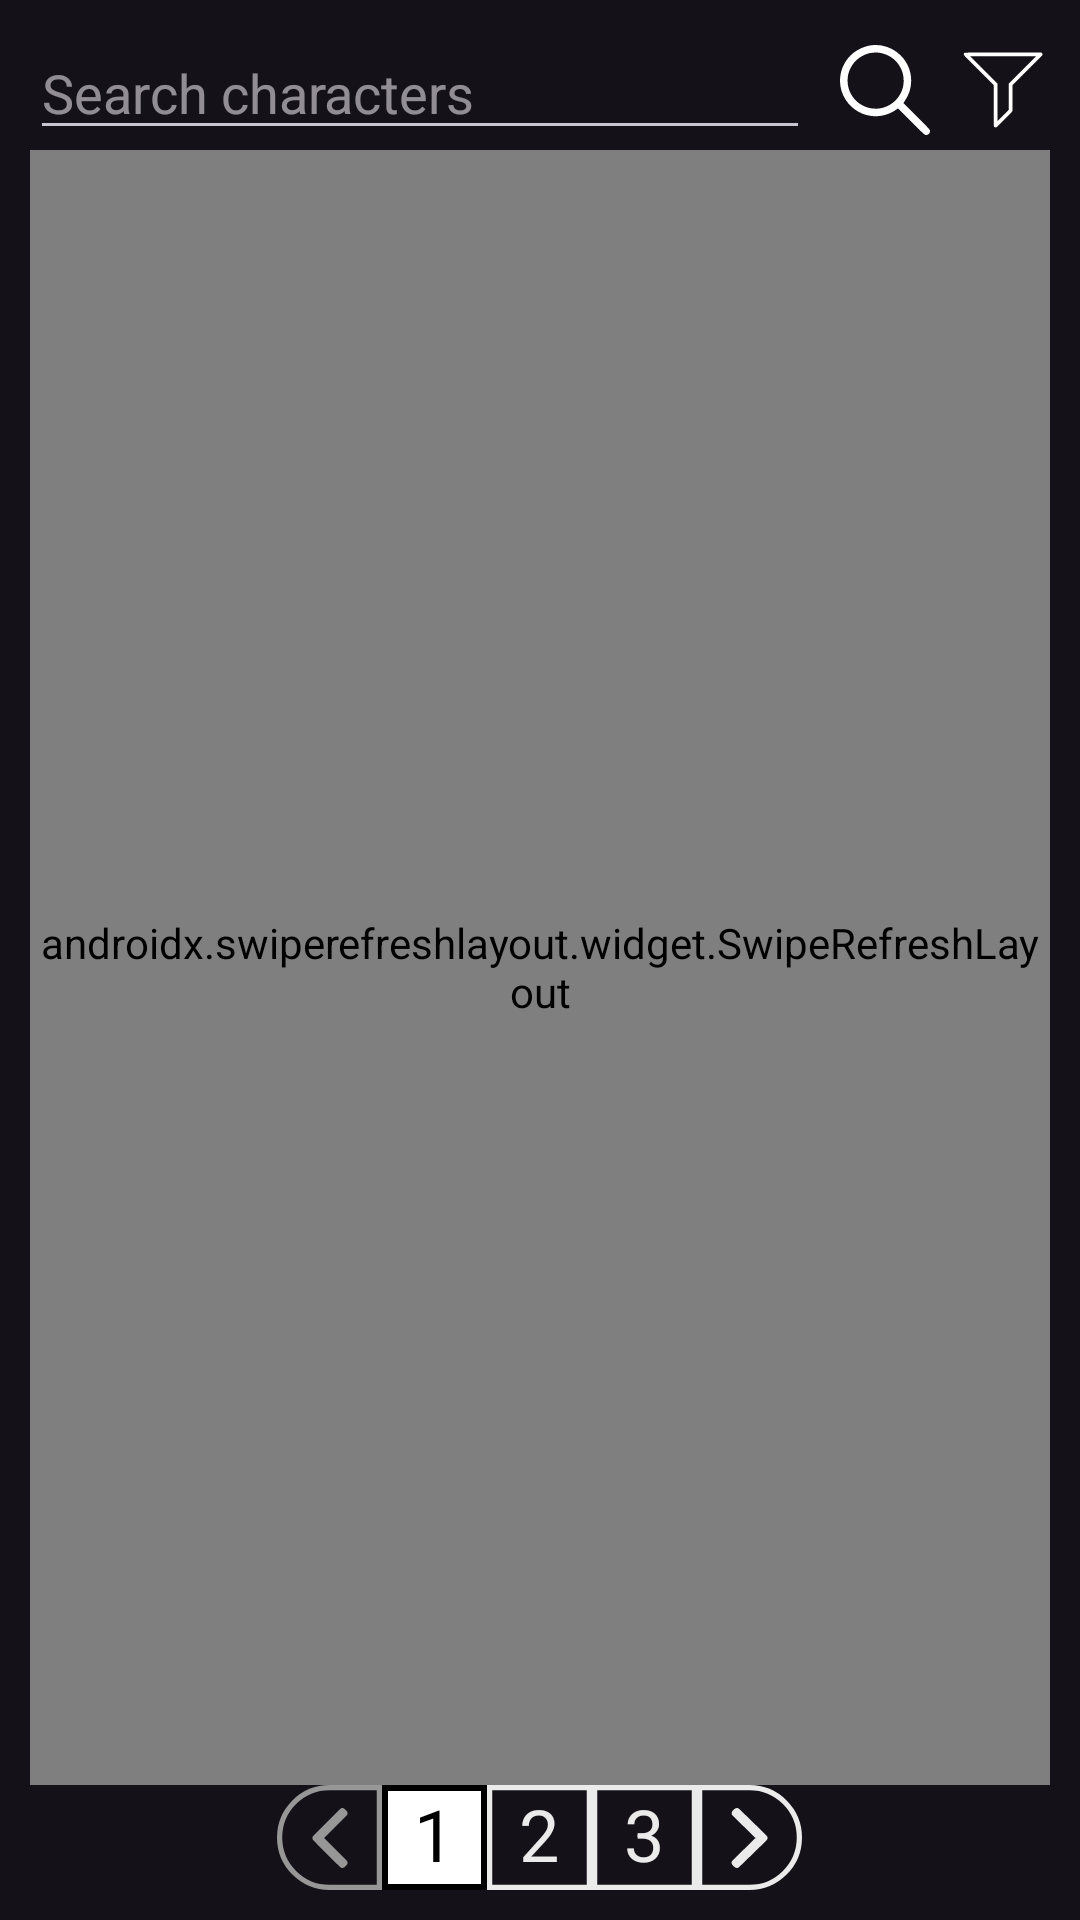

Named icons in this screenshot (1080w x 1920h) and their centers, [x,y]:
filter empty: [1003,90]
left arrow: [329,1837]
right arrow: [749,1837]
